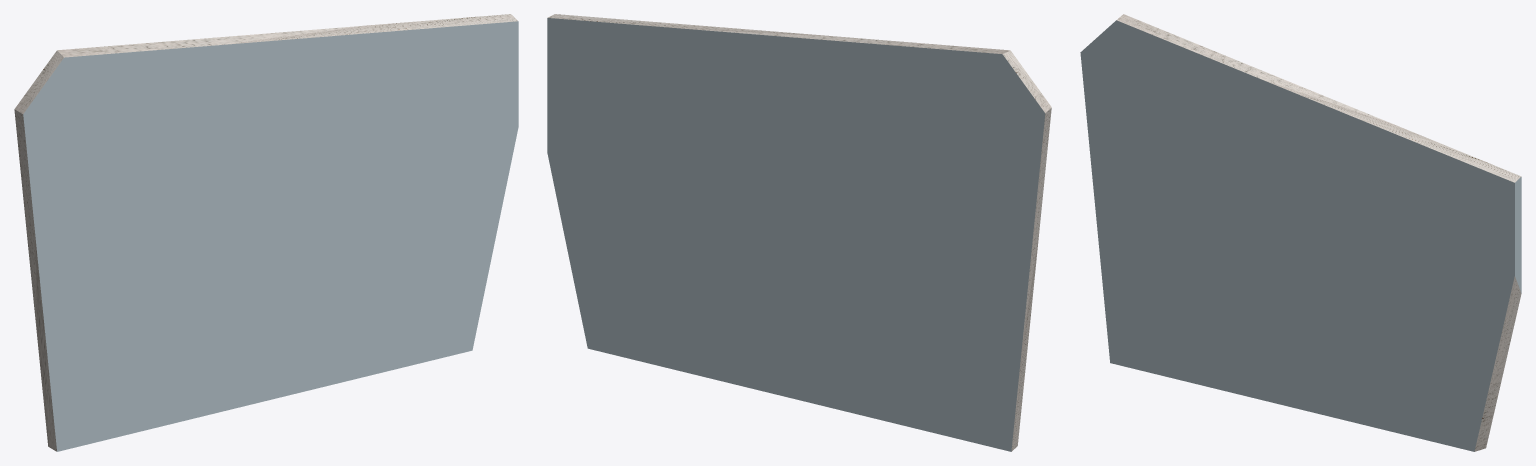
The model's file is BROKENWINDOWPIECE.glb.
3 renders of one model, left to right at view 1: azimuth 30°, elevation 25°; view 2: azimuth 150°, elevation 25°; view 3: azimuth 330°, elevation 25°, orthographic. The views are drawn at different scales.
Visible parts, largest first — view 1: broken_window_cell.001; view 2: broken_window_cell.001; view 3: broken_window_cell.001.
Part boxes in pixels (bbox=[...]): broken_window_cell.001: bbox=[14, 14, 518, 451]; broken_window_cell.001: bbox=[547, 14, 1051, 451]; broken_window_cell.001: bbox=[1080, 14, 1521, 451].
Size of the model in its own units: 1.77 by 1.34 by 0.0471.
Materials: 2 (1 with a texture image).
